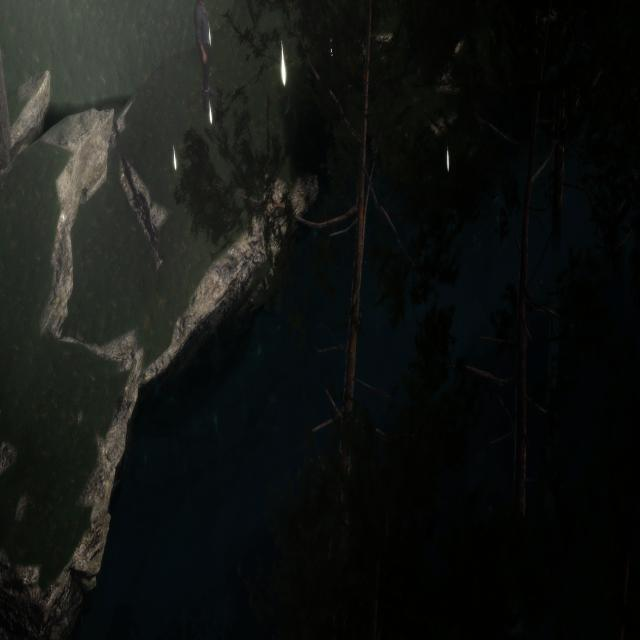Human: (191, 0, 219, 126)
